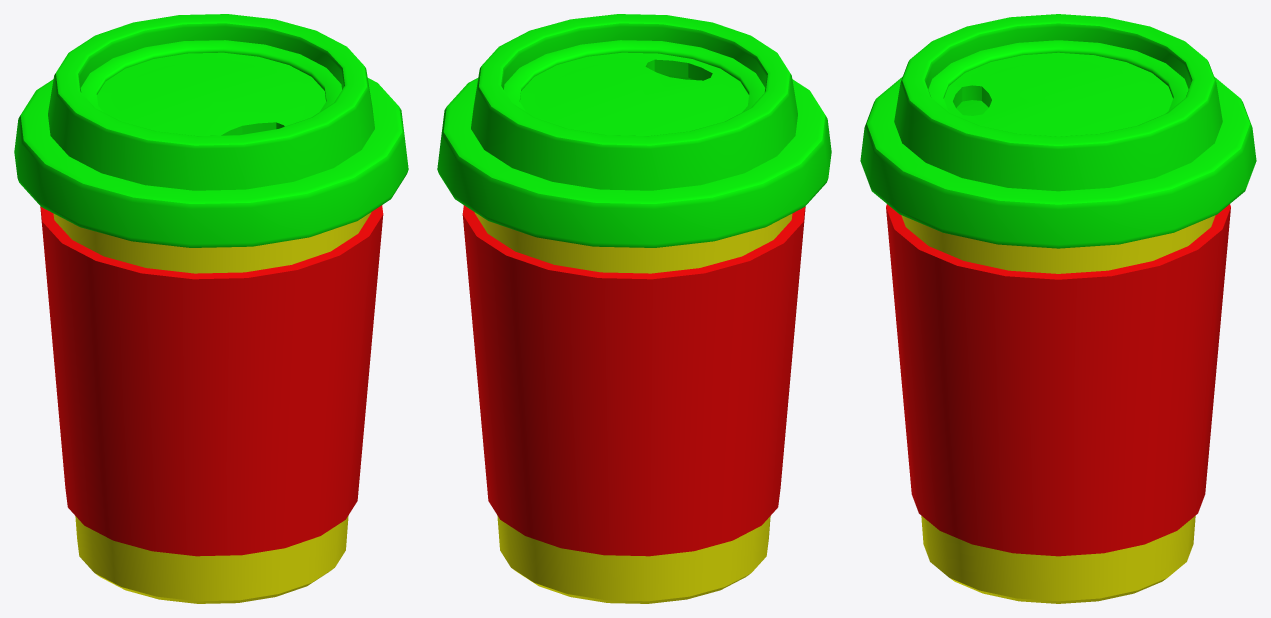
The model's file is coffee cup.fbx.
The picture shows the model from 3 angles, left to right: view 1: azimuth 30°, elevation 25°; view 2: azimuth 150°, elevation 25°; view 3: azimuth 270°, elevation 25°; orthographic projection.
Parts seen in each view (by area): view 1: pasted__pCylinder1 group, pCylinder2, pCylinder1; view 2: pasted__pCylinder1 group, pCylinder2, pCylinder1; view 3: pasted__pCylinder1 group, pCylinder2, pCylinder1.
Part boxes in pixels (bbox=[...]): pasted__pCylinder1 group: bbox=[40, 205, 383, 556]; pCylinder2: bbox=[14, 14, 408, 247]; pCylinder1: bbox=[53, 212, 371, 603]; pasted__pCylinder1 group: bbox=[462, 205, 805, 556]; pCylinder2: bbox=[437, 14, 831, 247]; pCylinder1: bbox=[474, 212, 792, 603]; pasted__pCylinder1 group: bbox=[886, 204, 1230, 556]; pCylinder2: bbox=[860, 14, 1256, 248]; pCylinder1: bbox=[901, 215, 1215, 603].
Size of the model in its own units: 1.81 by 2.38 by 1.81.
